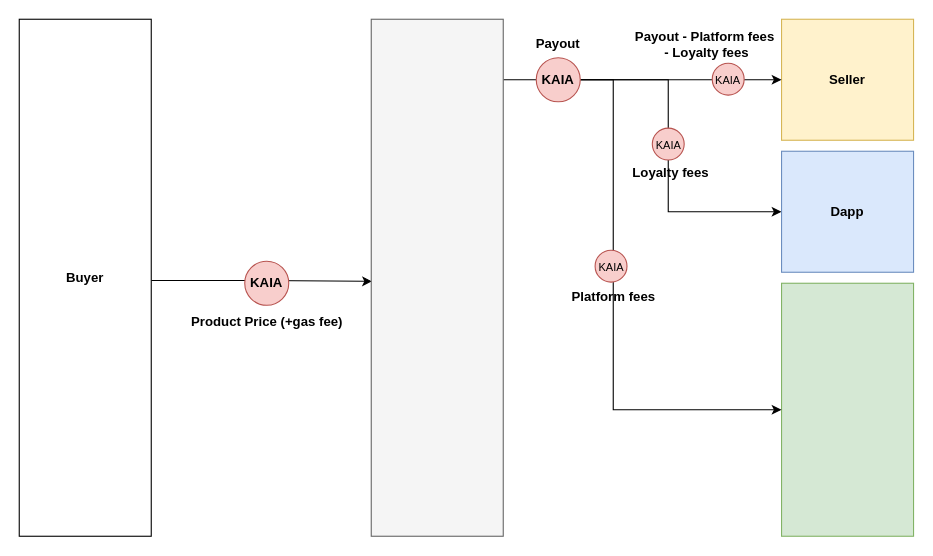
Some shapes in this 933 by 556 pixel diagram are drawn without their labels. Each missing label, with the centre of its shape:
LINE NEXT: the point at 847,409
Smart Contract: the point at 436,277
